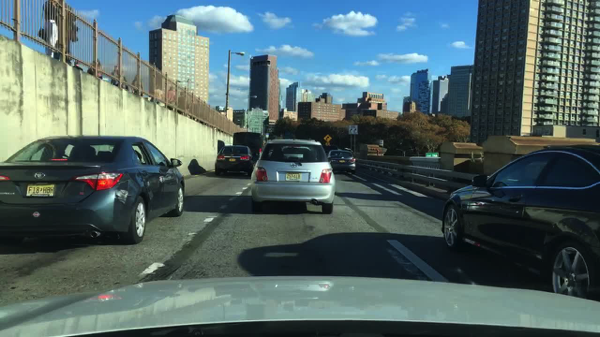car: (441, 148, 599, 302), (0, 135, 184, 247), (250, 140, 335, 213), (214, 146, 254, 179), (232, 132, 263, 167), (328, 150, 355, 176), (322, 146, 338, 154)
person: (37, 1, 59, 59), (110, 64, 129, 91), (88, 58, 103, 81), (130, 74, 143, 99), (176, 89, 187, 117), (165, 84, 176, 111), (152, 86, 163, 106), (72, 58, 82, 71)
traffic sign: (348, 125, 358, 135), (323, 134, 332, 142), (425, 153, 439, 158), (265, 133, 270, 139), (325, 142, 330, 147)
